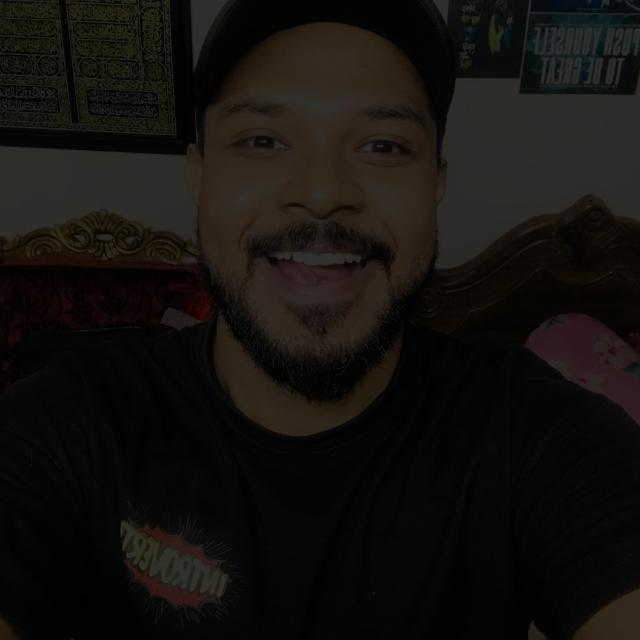Happy: (112, 59, 513, 444)
